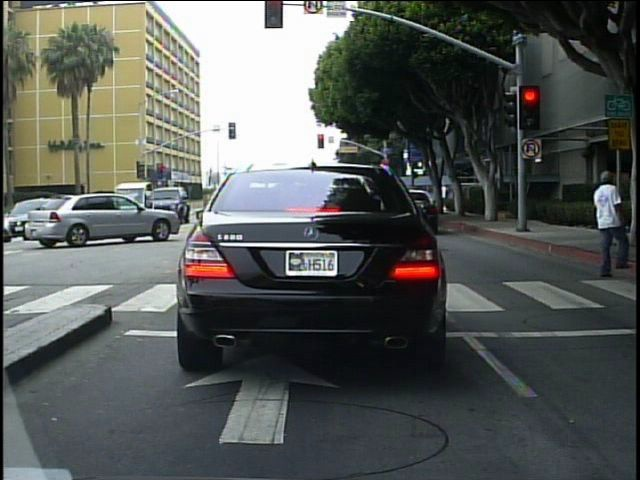person: (588, 167, 627, 278), (634, 166, 639, 294), (438, 180, 452, 212)
